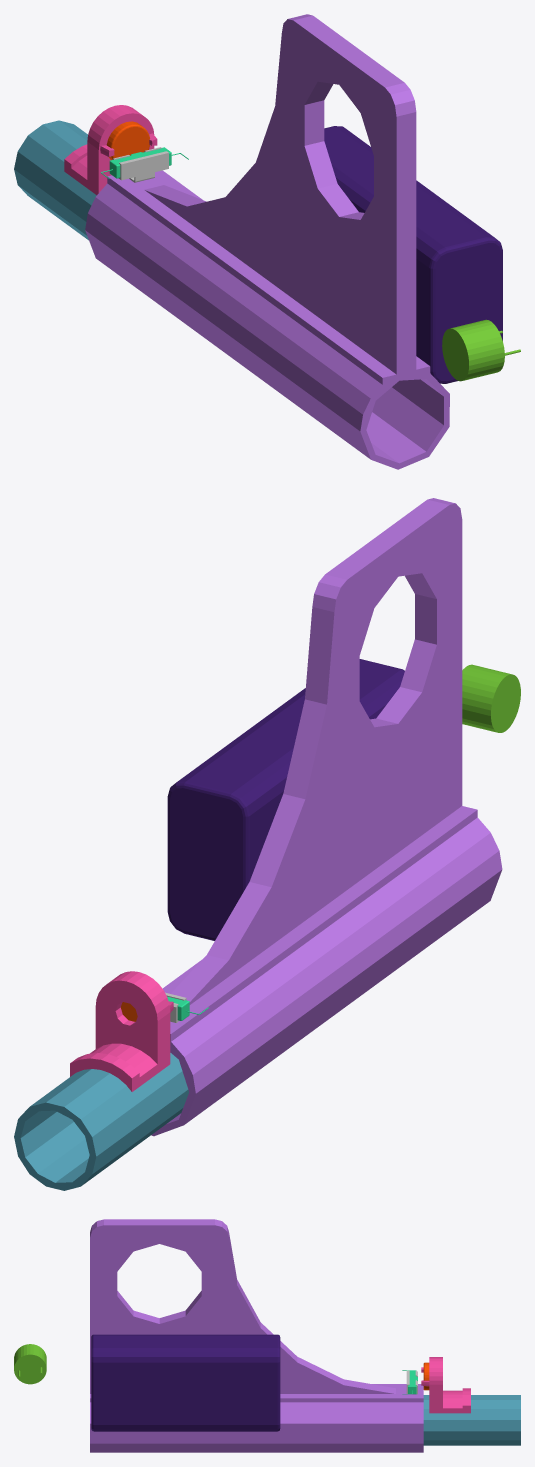
File: export_setup.obj
3 renders of one model, top to bottom at view 1: azimuth 30°, elevation 25°; view 2: azimuth 150°, elevation 25°; view 3: azimuth 270°, elevation 25°, orthographic. The views are drawn at different scales.
Parts seen in each view (by area): view 1: Body, Body006, Body001, Body002, Body007, Body003, Body008, Body004; view 2: Body, Body006, Body001, Body002, Body007; view 3: Body, Body006, Body001, Body002, Body007.
Part boxes in pixels (bbox=[...]): Body: bbox=[85, 14, 449, 469]; Body006: bbox=[324, 126, 502, 383]; Body001: bbox=[14, 120, 96, 240]; Body002: bbox=[64, 105, 157, 194]; Body007: bbox=[442, 319, 520, 381]; Body003: bbox=[106, 121, 149, 160]; Body008: bbox=[112, 147, 168, 182]; Body004: bbox=[101, 147, 188, 178]; Body: bbox=[151, 498, 502, 1136]; Body006: bbox=[167, 659, 404, 940]; Body001: bbox=[14, 1053, 188, 1190]; Body002: bbox=[70, 971, 173, 1091]; Body007: bbox=[462, 664, 520, 732]; Body: bbox=[90, 1219, 423, 1452]; Body006: bbox=[91, 1334, 280, 1431]; Body001: bbox=[423, 1395, 520, 1445]; Body002: bbox=[421, 1357, 470, 1413]; Body007: bbox=[14, 1344, 46, 1384].
Bounding box in the file's own units: 36.6 × 90.01 × 182.
